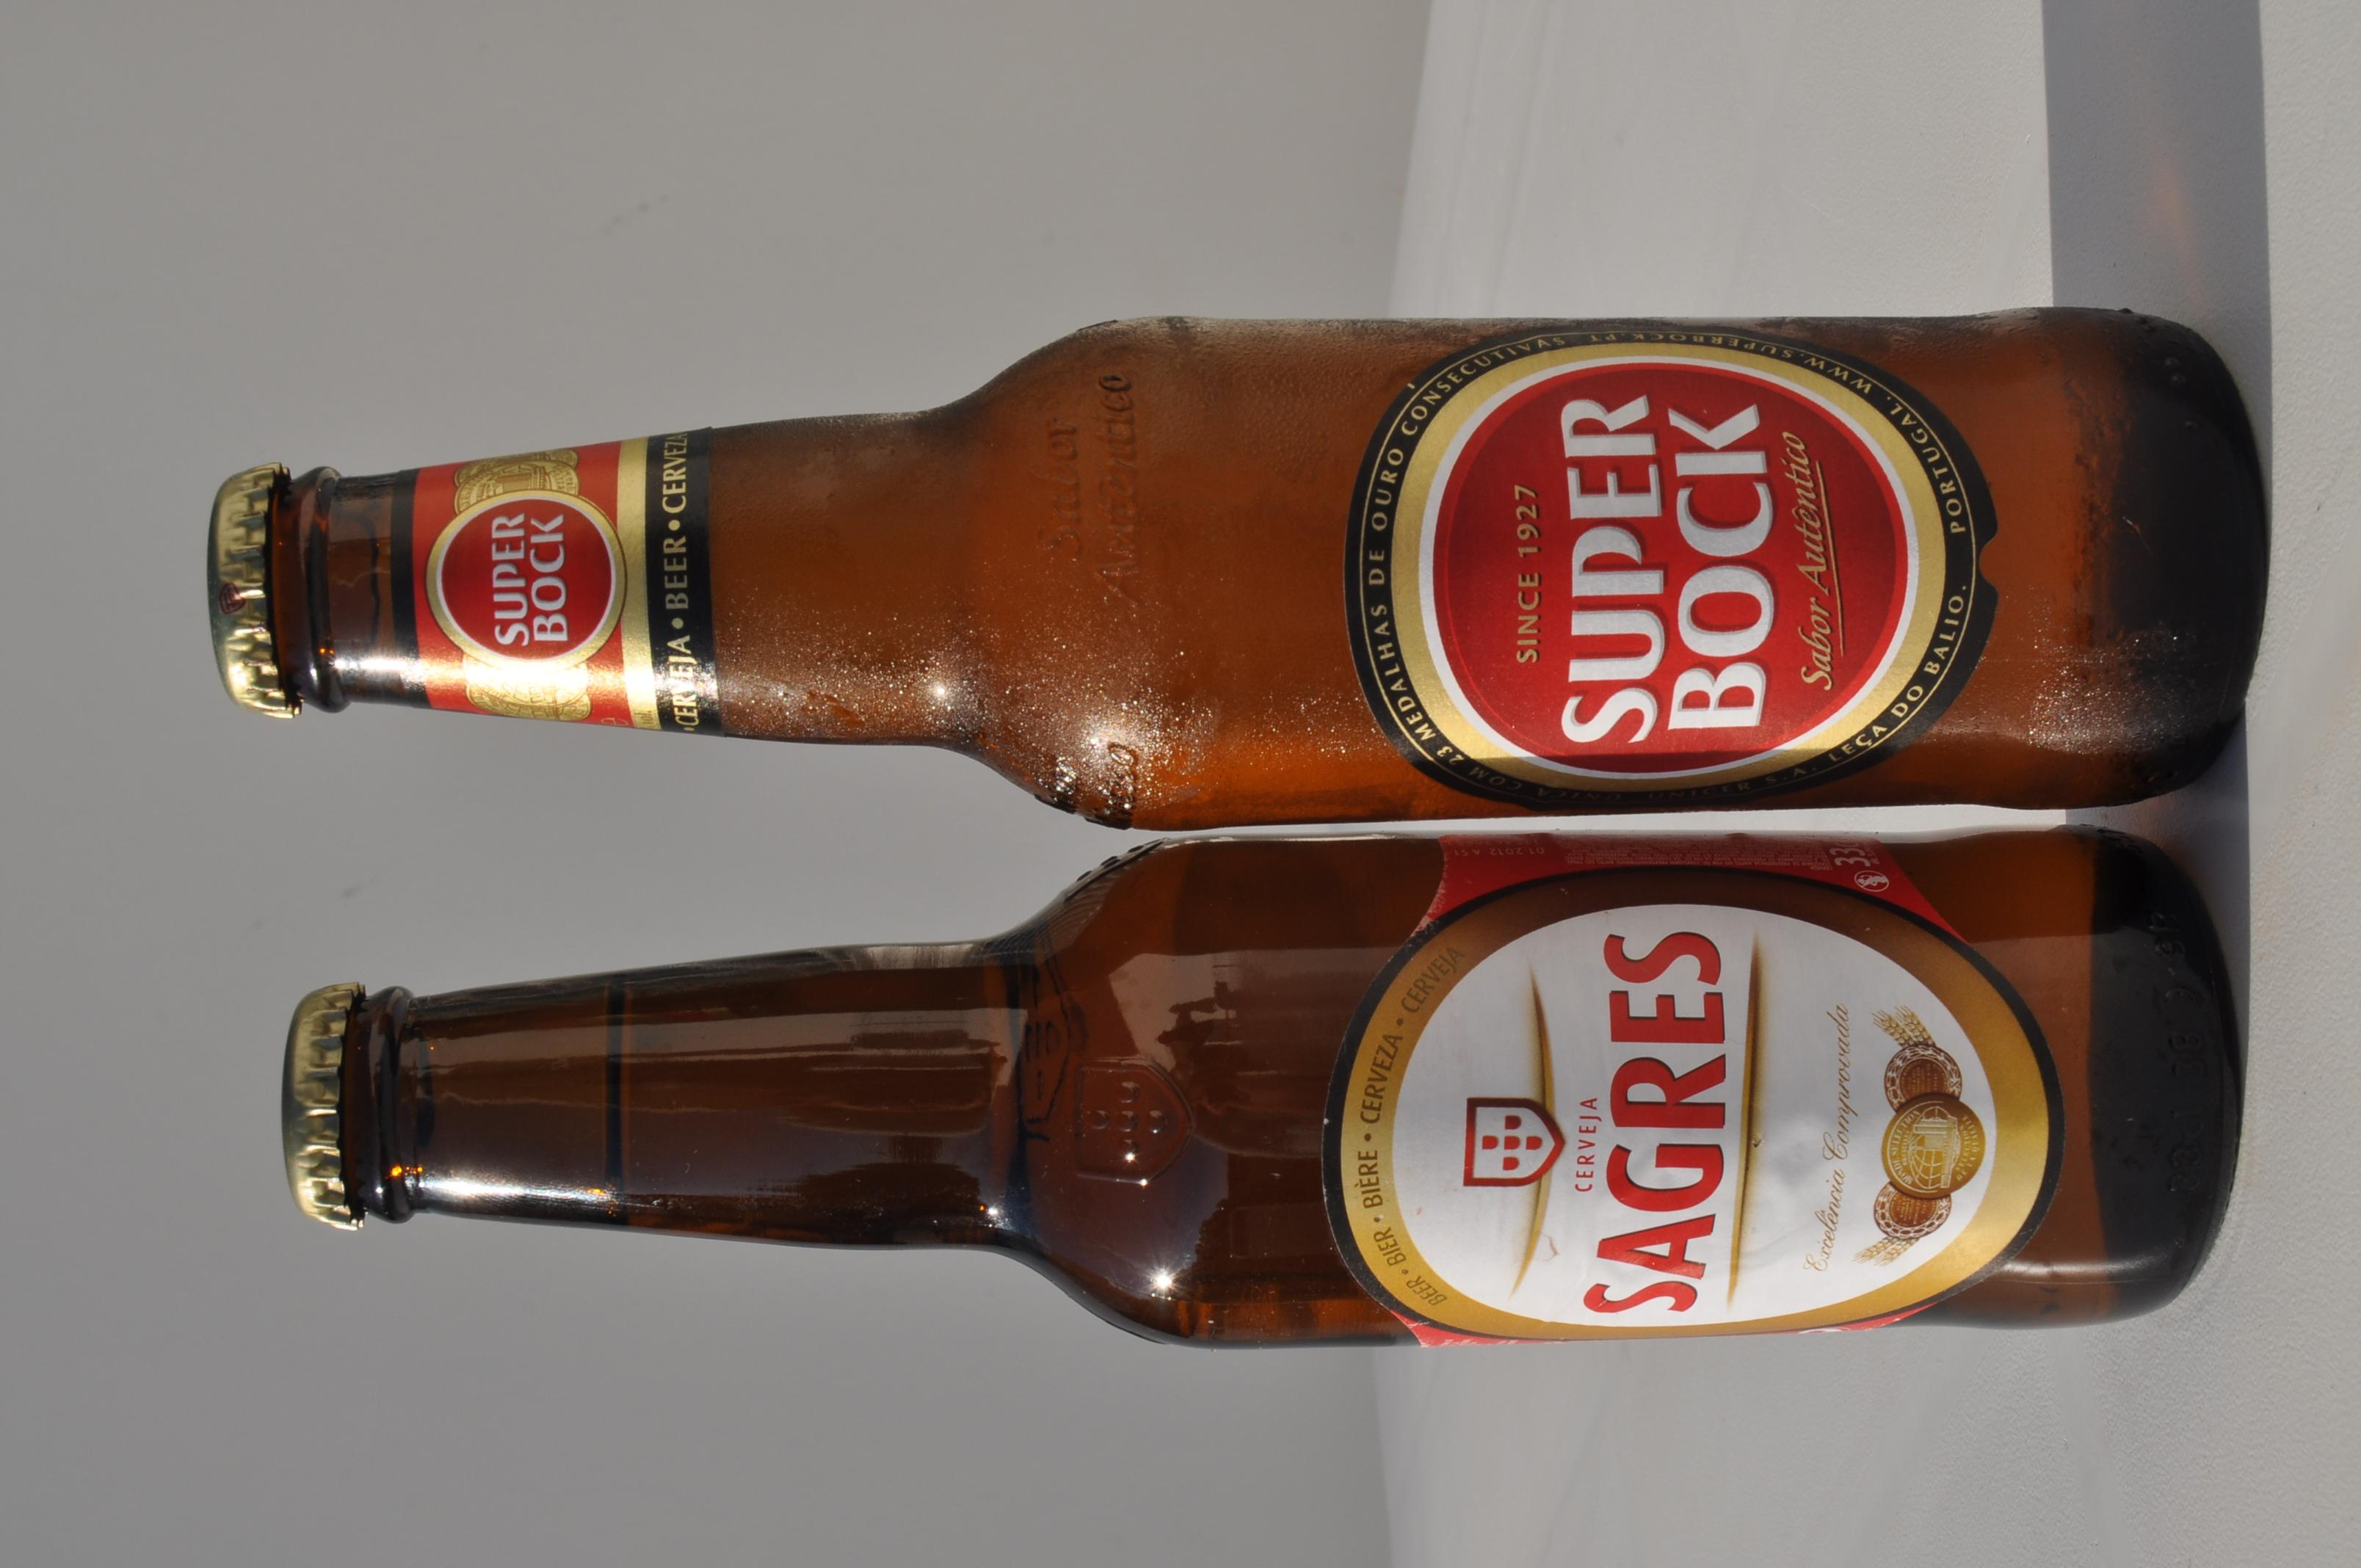glass: (1150, 136, 1904, 1498), (348, 182, 1134, 1484)
